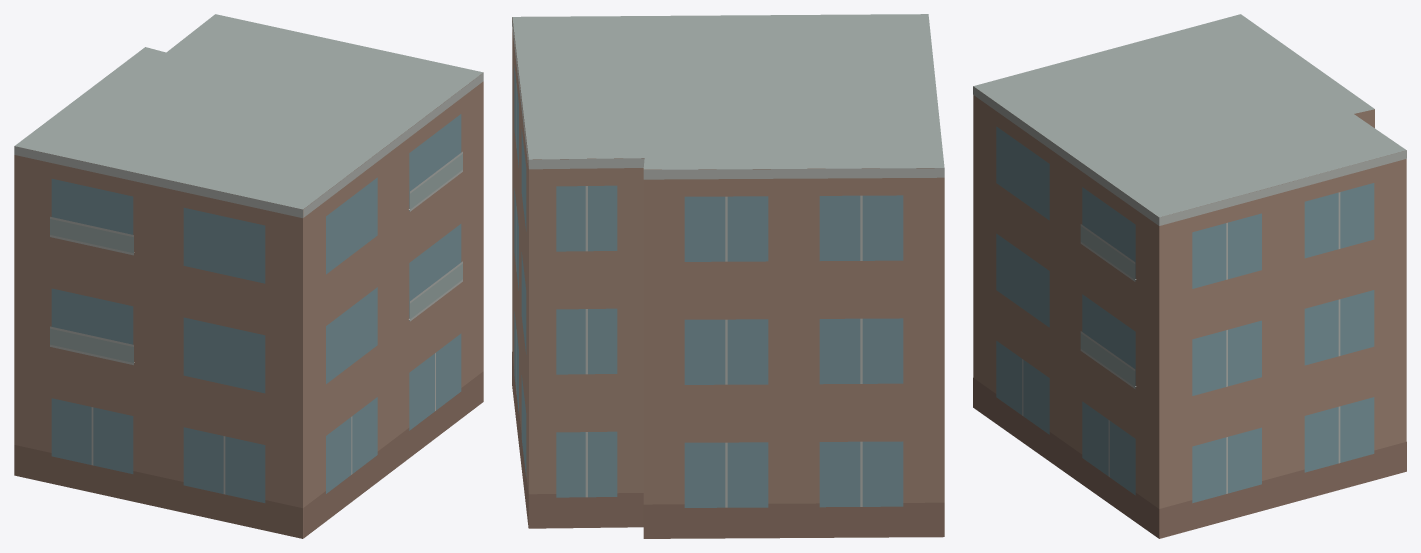
Rendered from survey-upis-32792686.glb.
3 views of the same model, side by side, from view 1: azimuth 30°, elevation 25°; view 2: azimuth 150°, elevation 25°; view 3: azimuth 270°, elevation 25° (orthographic). The views are drawn at different scales.
Parts seen in each view (by area): view 1: survey-upis-32792686.tmp; view 2: survey-upis-32792686.tmp; view 3: survey-upis-32792686.tmp.
Boxes of the visible parts, x1,y1,x2,y2 form: survey-upis-32792686.tmp: [14, 14, 483, 538]; survey-upis-32792686.tmp: [512, 14, 944, 538]; survey-upis-32792686.tmp: [973, 14, 1406, 538].
Bounding box in the file's own units: 12.44 × 9.15 × 11.2.
